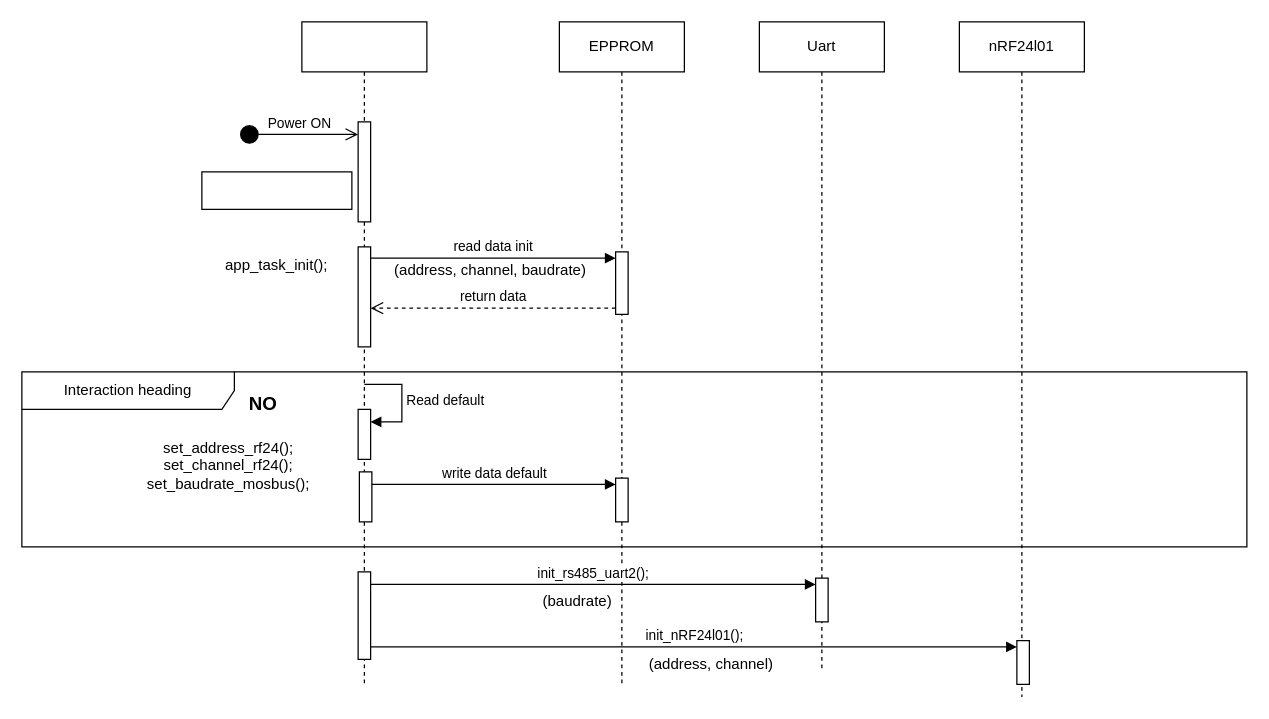
Some shapes in this 1269 by 719 pixel diagram are drawn without their labels. Each missing label, with the centre of its shape:
"MCU" belongs at point 364,352.
"Started ak kit" belongs at point 276,190.
